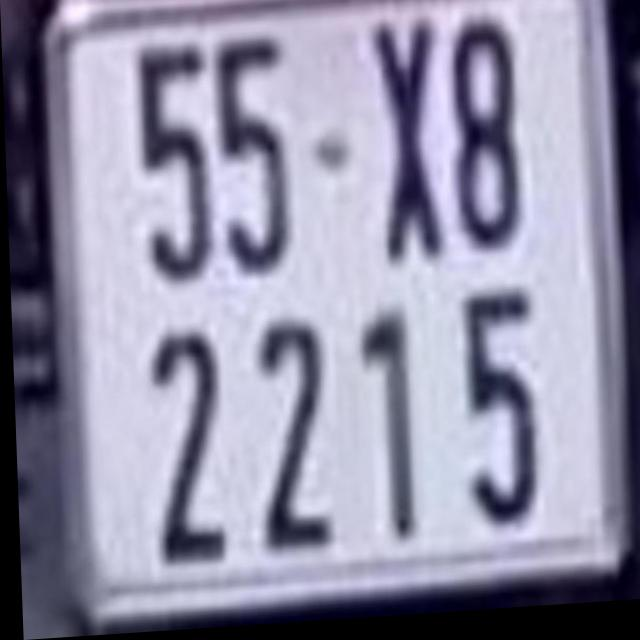1: (356, 309, 421, 551)
2: (147, 325, 225, 566), (251, 322, 330, 556)
5: (459, 295, 540, 536), (136, 41, 207, 281), (211, 37, 285, 266)
8: (450, 24, 525, 255)
X: (371, 15, 442, 266)
